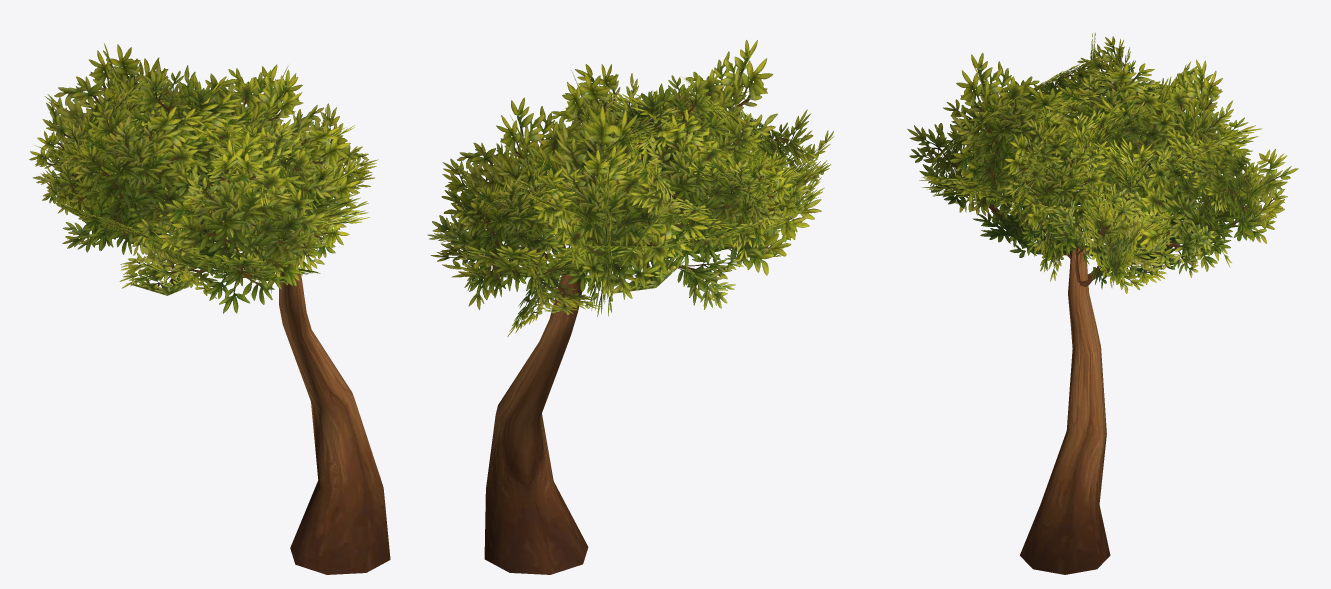
3 renders of one model, left to right at view 1: azimuth 30°, elevation 25°; view 2: azimuth 150°, elevation 25°; view 3: azimuth 270°, elevation 25°, orthographic. The views are drawn at different scales.
Size of the model in its own units: 10.67 by 15.45 by 12.97.
Materials: 2 (2 with a texture image).
